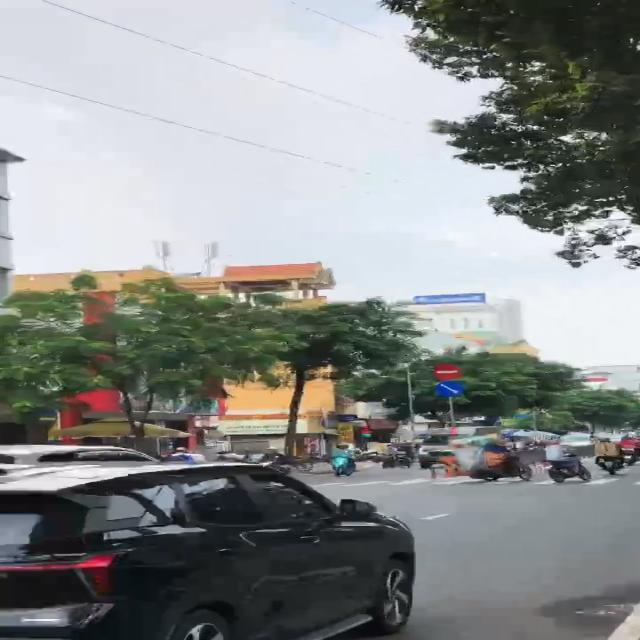Bien bao cam di nguoc chieu: (430, 362, 461, 380)
Bien bao huong phai di vong chuong ngai vat: (432, 381, 472, 399)
